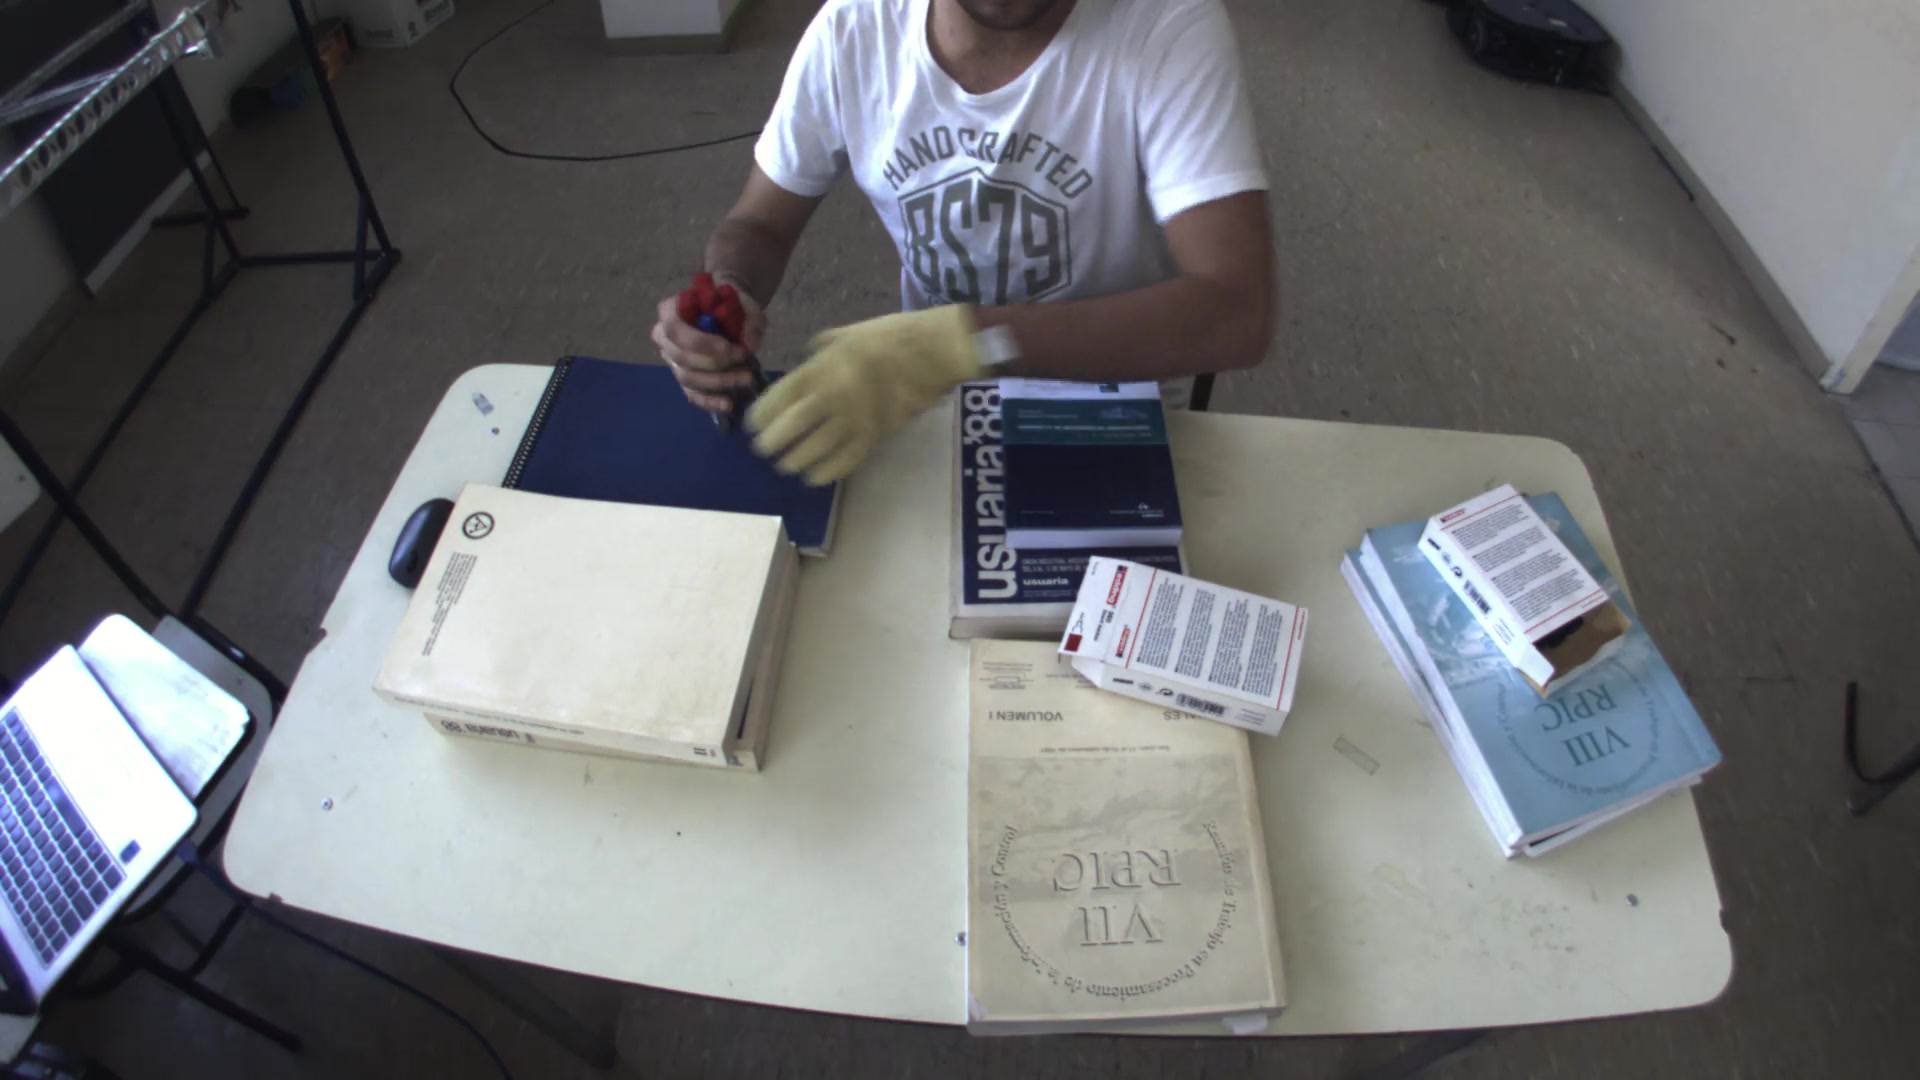hand: (738, 290, 998, 484), (640, 266, 771, 434)
